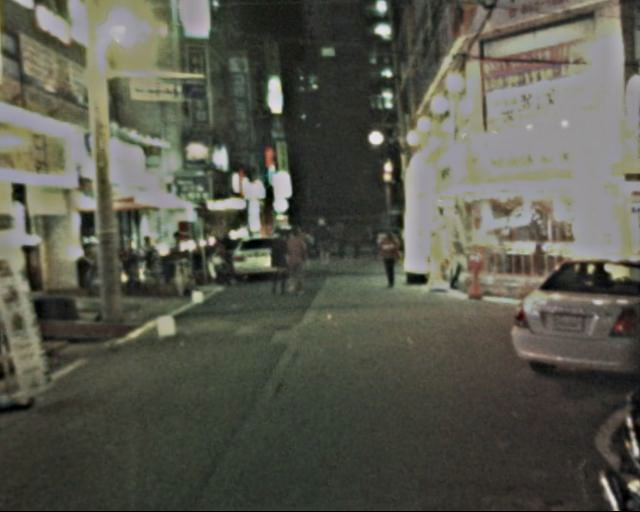person: (263, 226, 294, 296), (275, 223, 304, 294), (376, 224, 404, 286), (312, 218, 332, 267), (349, 230, 376, 259), (330, 221, 346, 261)
